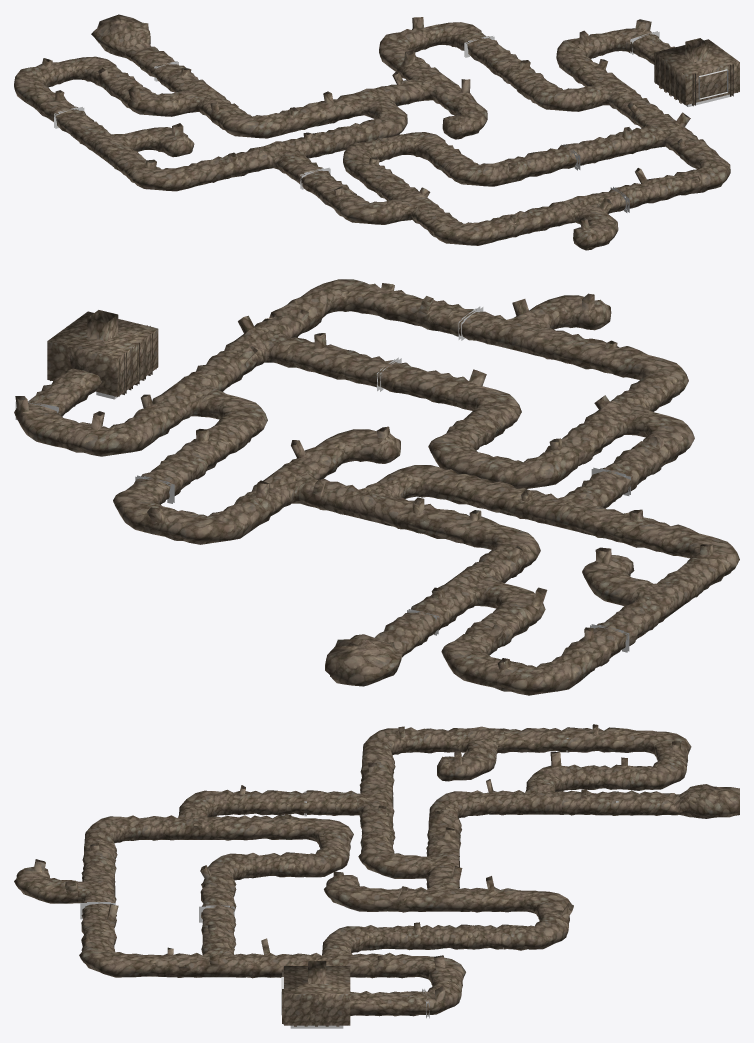
The model's file is Cueva Final.fbx.
3 renders of one model, top to bottom at view 1: azimuth 30°, elevation 25°; view 2: azimuth 150°, elevation 25°; view 3: azimuth 270°, elevation 25°, orthographic. The views are drawn at different scales.
Visible parts, largest first — view 1: Cube.011, Plane.002, Cube.034, Cube.017; view 2: Cube.011, Plane.002, Cube.034; view 3: Cube.011, Plane.002.
Boxes of the visible parts, x1,y1,x2,y2 form: Cube.011: (14,14,730,250); Plane.002: (654,38,739,106); Cube.034: (54,31,659,212); Cube.017: (655,54,737,106); Cube.011: (14,279,739,695); Plane.002: (47,310,158,399); Cube.034: (15,306,630,652); Cube.011: (14,724,739,1016); Plane.002: (284,961,350,1028).
Bounding box in the file's own units: 14437 × 1242 × 15469.
